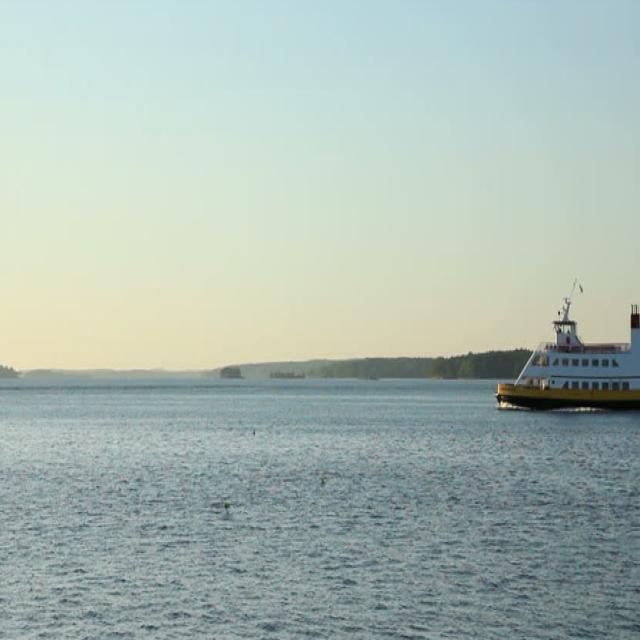passenger ship: (481, 308, 640, 430)
